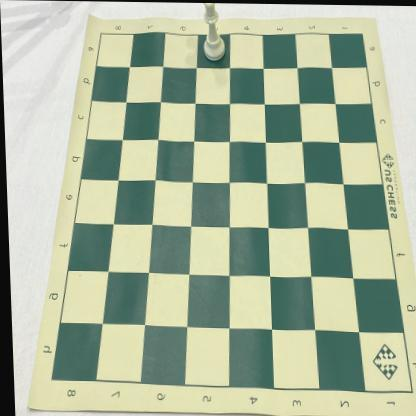white-queen: (201, 3, 225, 62)
